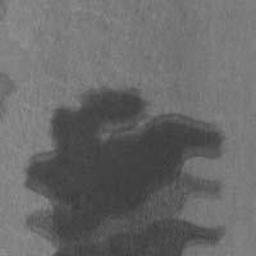Oil spot: (22, 83, 230, 256), (0, 68, 20, 125), (0, 0, 9, 24)
